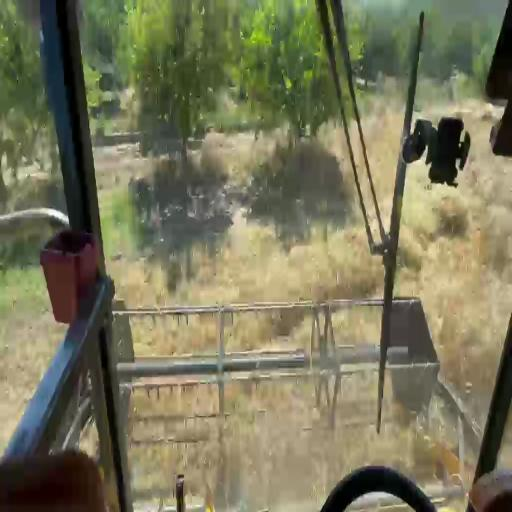arpa: (108, 222, 383, 308), (398, 192, 487, 346), (132, 315, 214, 355), (227, 310, 306, 348), (100, 187, 134, 244), (333, 311, 380, 342)
